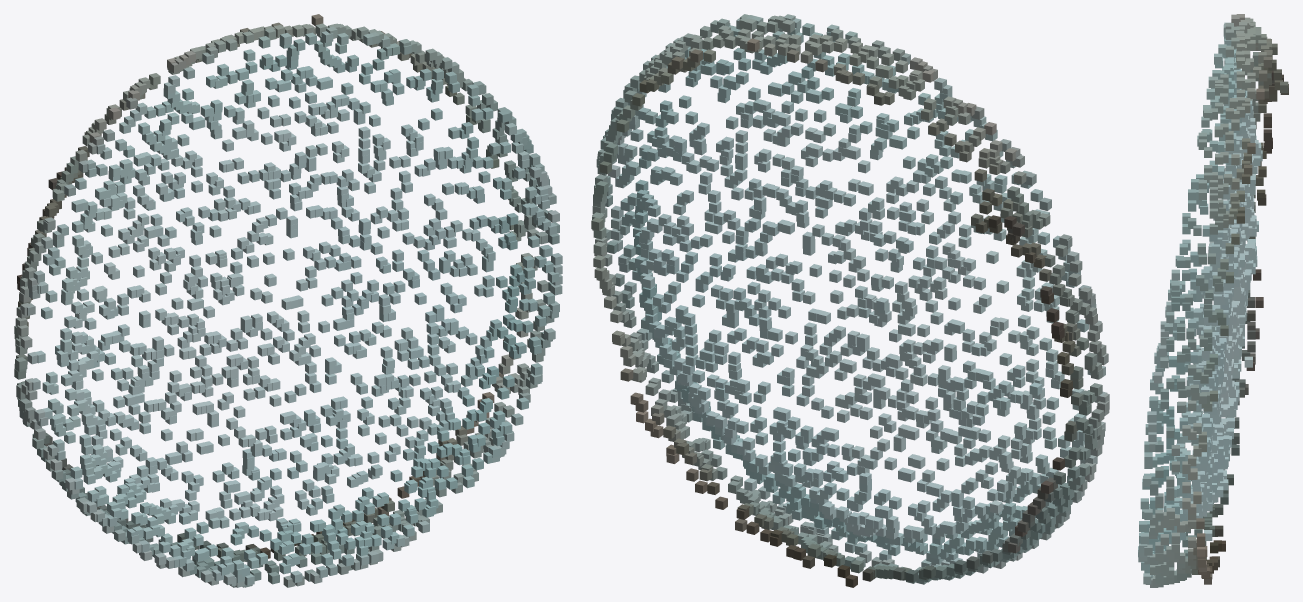
Rendered from plate.glb.
3 renders of one model, left to right at view 1: azimuth 30°, elevation 25°; view 2: azimuth 150°, elevation 25°; view 3: azimuth 270°, elevation 25°, orthographic. The views are drawn at different scales.
Visible parts, largest first — view 1: world; view 2: world; view 3: world.
Part boxes in pixels (<box>): world: <box>14,14,562,587</box>; world: <box>591,14,1109,587</box>; world: <box>1138,14,1288,587</box>.
Bounding box in the file's own units: 0.204 × 0.2041 × 0.0544.
